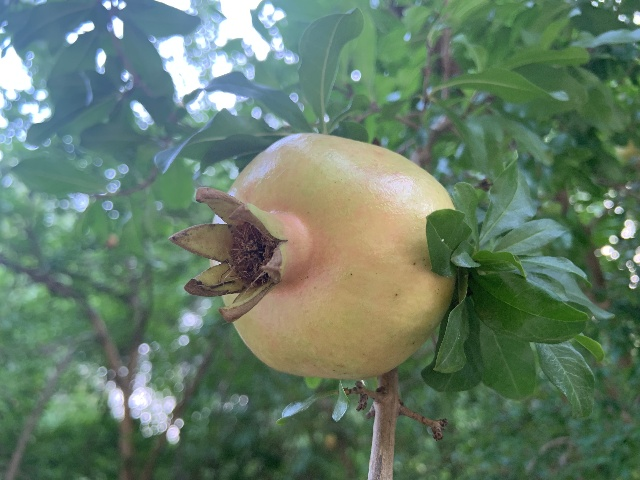mid-growth: (168, 132, 458, 378)
